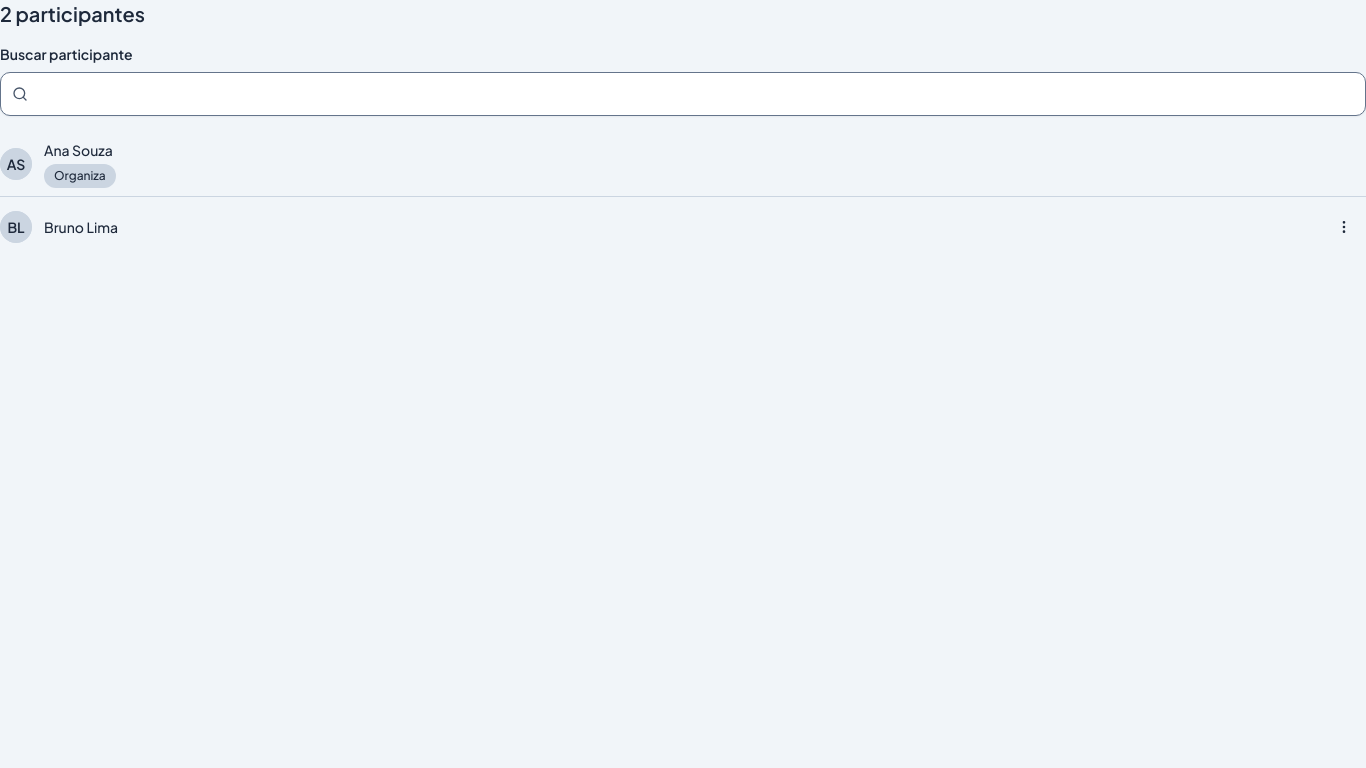
it: MemberActions › confirmar a remoção chama a API e recarrega a lista
Later steps or results of the test are not shown.
What coordinates should you click on to do the following:
click the button named "Ações para Bruno Lima"
I would click on:
 (1344, 227)
Its box is x1=1322 y1=205 x2=1365 y2=249.
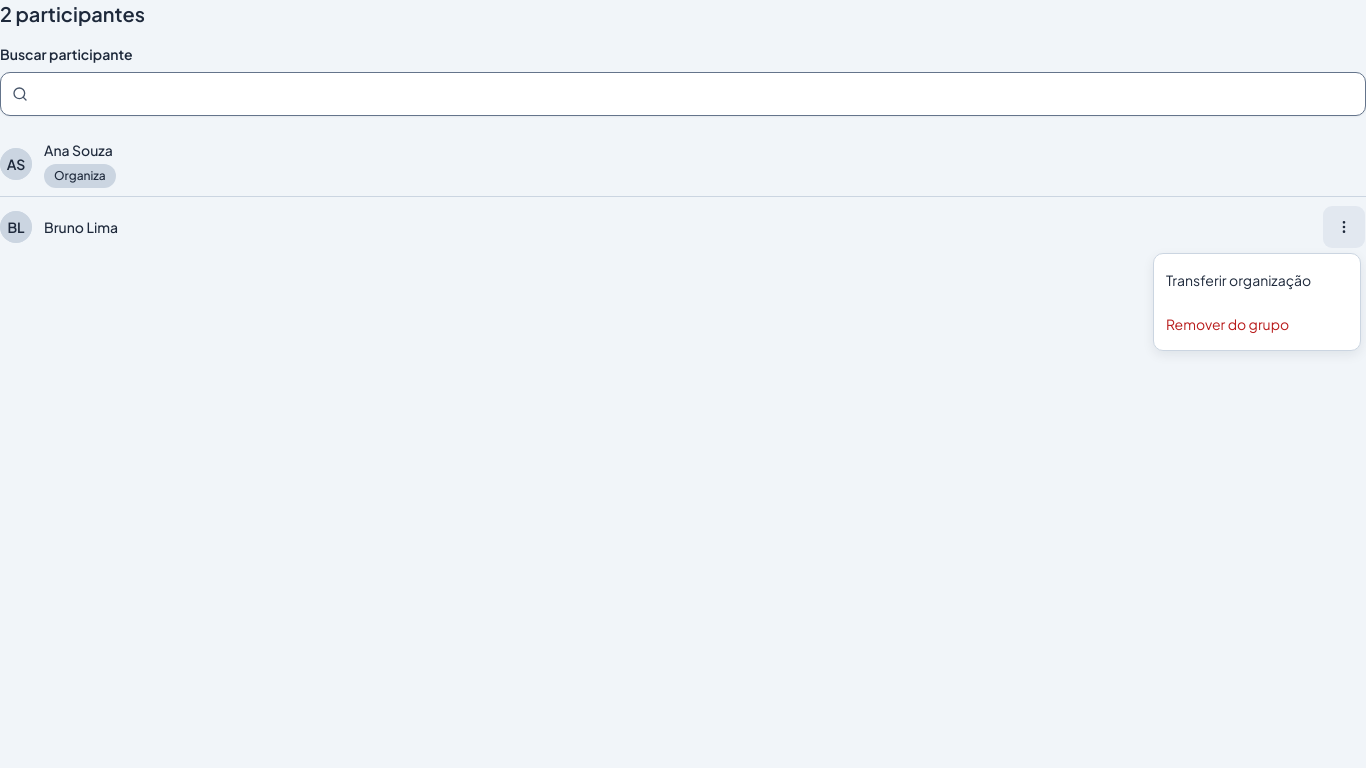
What coordinates should you click on to do the following:
click the menu item "Remover do grupo"
I would click on:
 (1228, 324)
Its box is x1=1166 y1=315 x2=1289 y2=333.
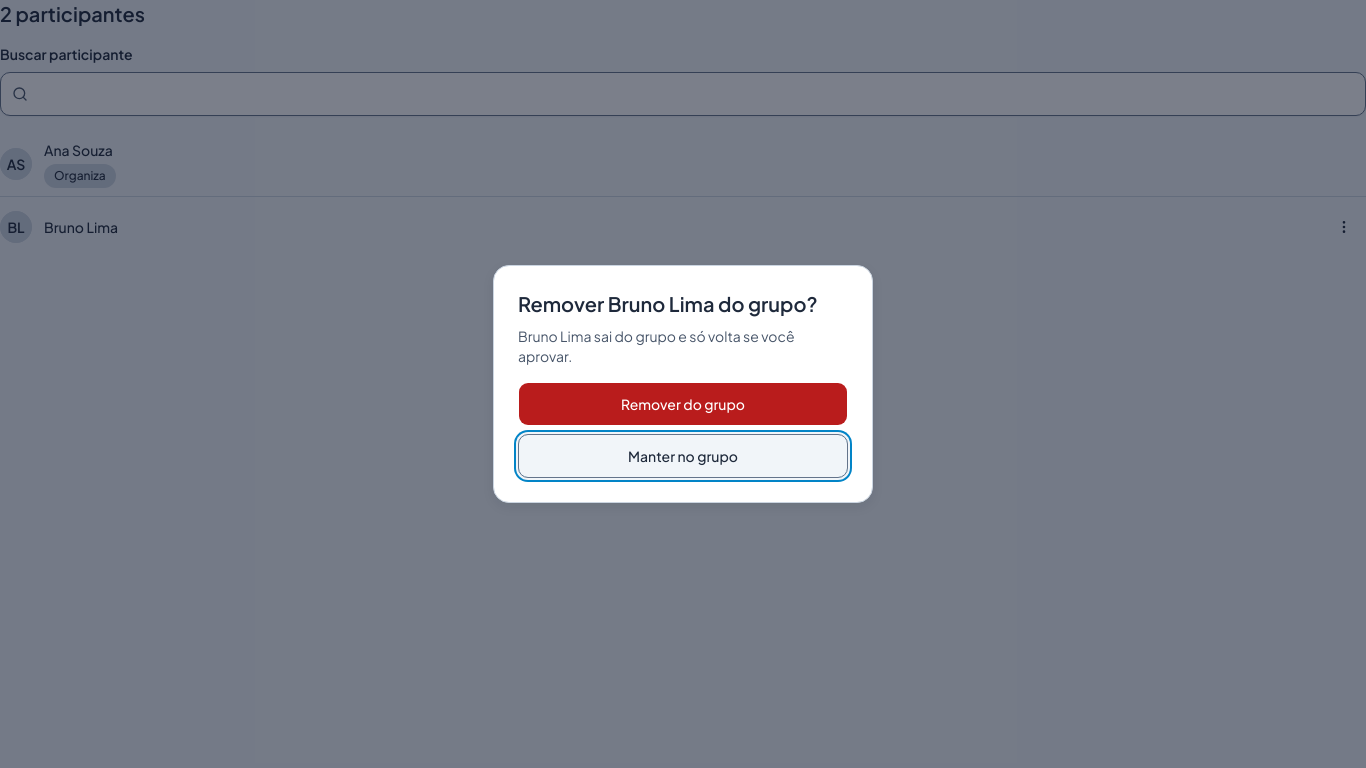
What coordinates should you click on to do the following:
click the button "Remover do grupo"
I would click on:
 (683, 404)
Its box is x1=518 y1=382 x2=848 y2=426.
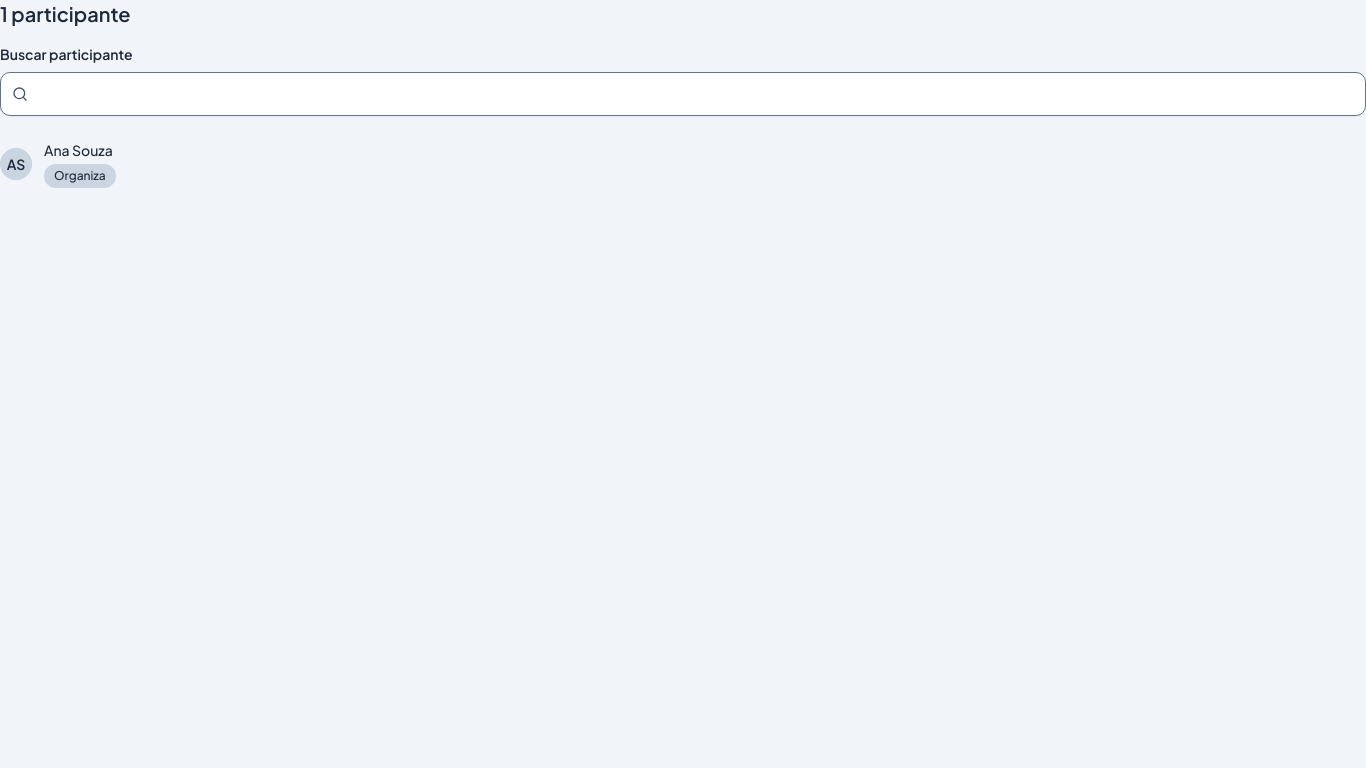
Expected: the dialog is gone
Expected: the heading "1 participante" is shown, x1=0 y1=1 x2=131 y2=26
